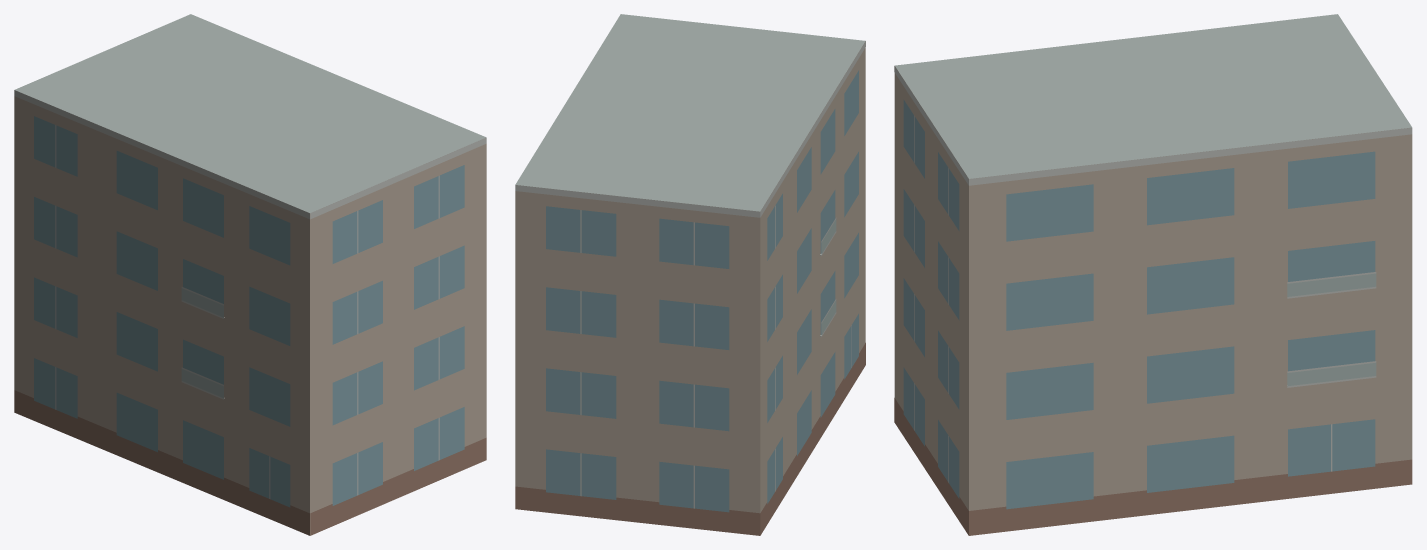
The model's file is survey-upis-32942046.glb.
The picture shows the model from 3 angles, left to right: view 1: azimuth 30°, elevation 25°; view 2: azimuth 150°, elevation 25°; view 3: azimuth 270°, elevation 25°; orthographic projection. The views are drawn at different scales.
Visible parts, largest first — view 1: survey-upis-32942046.tmp; view 2: survey-upis-32942046.tmp; view 3: survey-upis-32942046.tmp.
Part boxes in pixels (x1,y1,x2,y2): survey-upis-32942046.tmp: [14, 14, 486, 535]; survey-upis-32942046.tmp: [515, 14, 865, 535]; survey-upis-32942046.tmp: [894, 14, 1412, 535].
Size of the model in its own units: 12.7 by 12.8 by 16.84.
